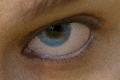eye: (39, 23, 71, 46)
